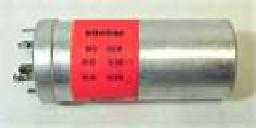Electrolytic-Capacitor: (10, 16, 240, 109)
